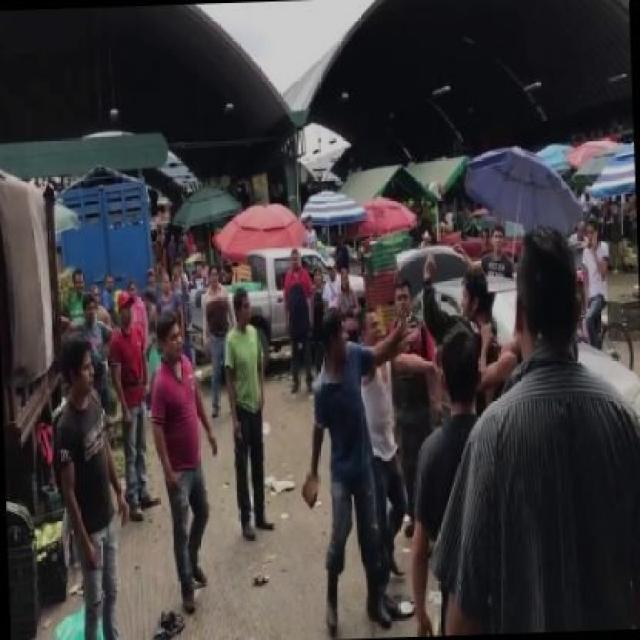fight: (292, 251, 497, 632)
non-fight: (429, 222, 640, 638), (44, 334, 134, 640), (400, 320, 486, 640), (148, 303, 226, 615), (215, 283, 280, 540)
